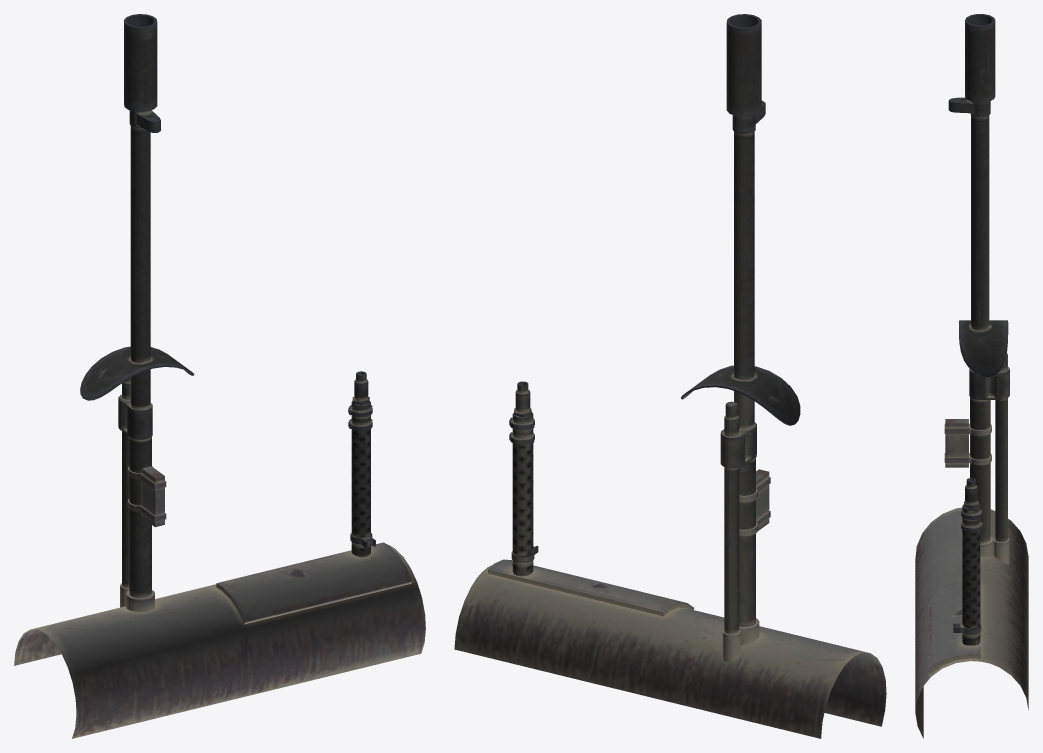
Rendered from Gun_03.glb.
3 renders of one model, left to right at view 1: azimuth 30°, elevation 25°; view 2: azimuth 150°, elevation 25°; view 3: azimuth 270°, elevation 25°, orthographic. The views are drawn at different scales.
Visible parts, largest first — view 1: set_0_group_0; view 2: set_0_group_0; view 3: set_0_group_0.
Part boxes in pixels (box(x1,y1,x2,y2)): set_0_group_0: box(14, 14, 425, 738); set_0_group_0: box(454, 14, 886, 738); set_0_group_0: box(915, 14, 1028, 738).
Bounding box in the file's own units: 0.7826 × 1.44 × 0.2419.
1 material, 1 textured.
